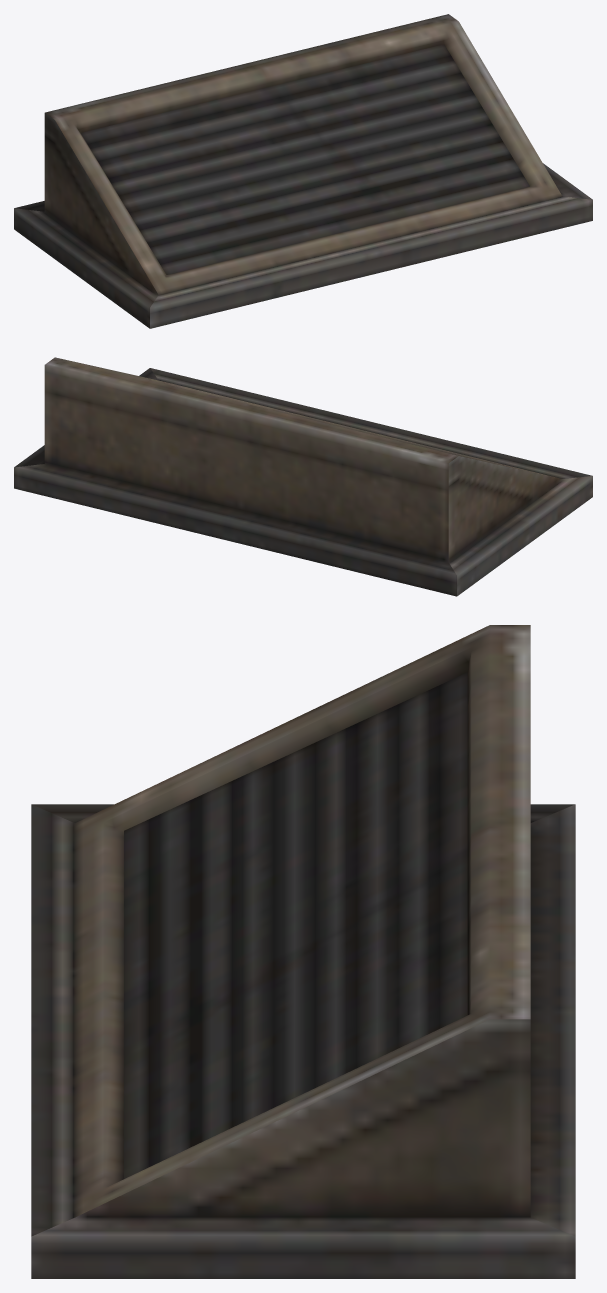
The model's file is computer_parts_speaker.dae.
3 renders of one model, top to bottom at view 1: azimuth 30°, elevation 25°; view 2: azimuth 150°, elevation 25°; view 3: azimuth 270°, elevation 25°, orthographic. The views are drawn at different scales.
Parts seen in each view (by area): view 1: speaker__2_; view 2: speaker__2_; view 3: speaker__2_.
Part boxes in pixels (x1,y1,x2,y2): speaker__2_: (14,14,592,328); speaker__2_: (14,357,592,596); speaker__2_: (31,625,575,1278).
Size of the model in its own units: 0.3427 by 0.0889 by 0.1823.
